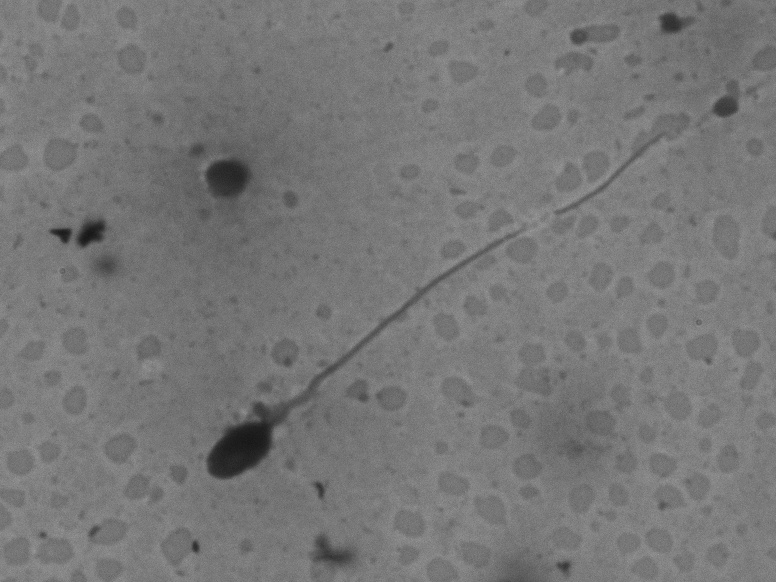Abnormal: (181, 111, 703, 511)
